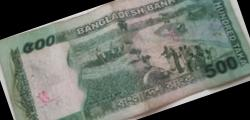500 taka: (7, 1, 242, 110)
